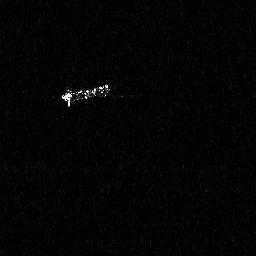ship: (59, 80, 112, 110)
